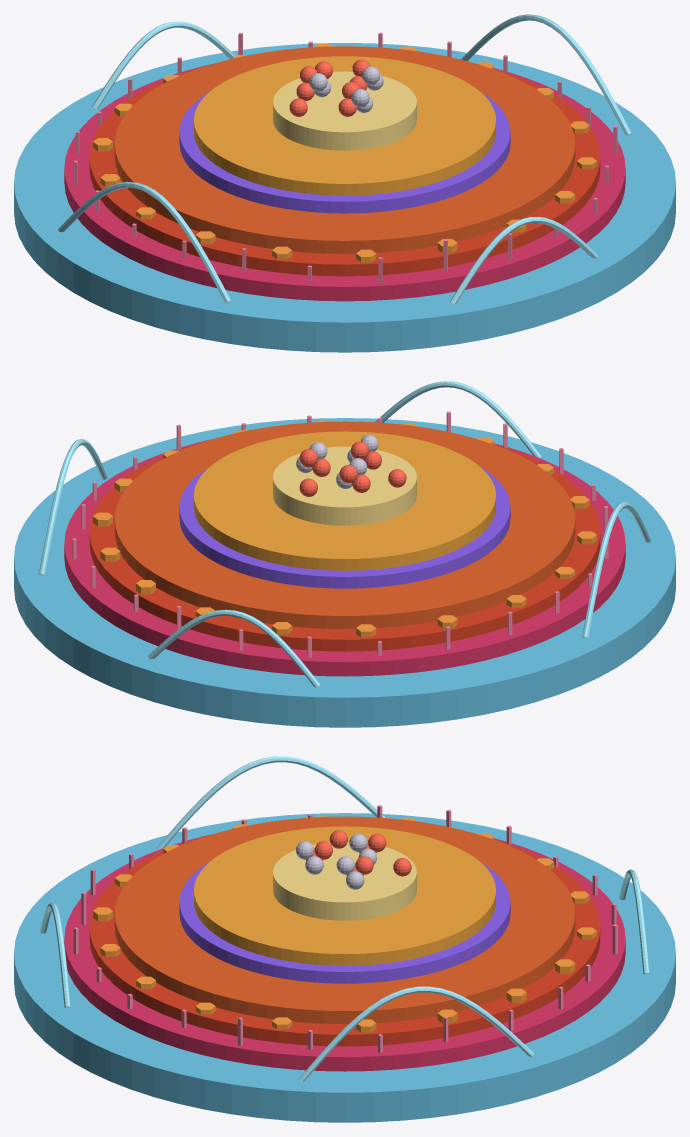
File: corte.glb
3 renders of one model, top to bottom at view 1: azimuth 30°, elevation 25°; view 2: azimuth 150°, elevation 25°; view 3: azimuth 270°, elevation 25°, orthographic.
Visible parts, largest first — view 1: corona-izq, convectiva-izq, cromosfera-izq, radiativa-izq, convectiva-der, corona-der, fotosfera-izq, radiativa-der, nucleo, tacoclina-izq, cromosfera-der, fotosfera-der (+5 smaller); view 2: corona-der, corona-izq, convectiva-der, convectiva-izq, radiativa-der, cromosfera-der, radiativa-izq, fotosfera-der, cromosfera-izq, nucleo, fotosfera-izq, tacoclina-der (+5 smaller); view 3: corona-der, convectiva-der, corona-izq, radiativa-der, cromosfera-der, convectiva-izq, fotosfera-der, radiativa-izq, nucleo, tacoclina-der, cromosfera-izq, fotosfera-izq (+5 smaller).
Part boxes in pixels (x1,y1,x2,y2): corona-izq: (14, 146, 664, 352); convectiva-izq: (114, 118, 567, 253); cromosfera-izq: (64, 137, 615, 301); radiativa-izq: (194, 103, 490, 195); convectiva-der: (123, 46, 575, 181); corona-der: (25, 43, 675, 248); fotosfera-izq: (89, 128, 591, 276); radiativa-der: (199, 56, 495, 147); nucleo: (273, 71, 416, 150); tacoclina-izq: (179, 113, 504, 213); cromosfera-der: (74, 64, 625, 212); fotosfera-der: (98, 67, 600, 195); corona-der: (14, 423, 430, 727); corona-izq: (259, 418, 675, 722); convectiva-der: (114, 425, 404, 628); convectiva-izq: (285, 421, 575, 625); radiativa-der: (194, 433, 383, 570); cromosfera-der: (64, 439, 417, 676); radiativa-izq: (306, 431, 495, 568); fotosfera-der: (89, 442, 410, 651); cromosfera-izq: (411, 443, 625, 672); nucleo: (273, 446, 416, 525); fotosfera-izq: (405, 444, 600, 647); tacoclina-der: (179, 467, 387, 588); corona-der: (111, 854, 675, 1122); convectiva-der: (182, 845, 575, 1023); corona-izq: (14, 813, 578, 1081); radiativa-der: (238, 845, 495, 965); cromosfera-der: (146, 855, 625, 1071); convectiva-izq: (114, 816, 506, 995); fotosfera-der: (164, 850, 600, 1046); radiativa-izq: (194, 826, 451, 946); nucleo: (273, 841, 416, 920); tacoclina-der: (228, 862, 510, 983); cromosfera-izq: (64, 834, 542, 1036); fotosfera-izq: (89, 838, 525, 1014).
Size of the model in its own units: 9.2 by 2.13 by 9.2.
